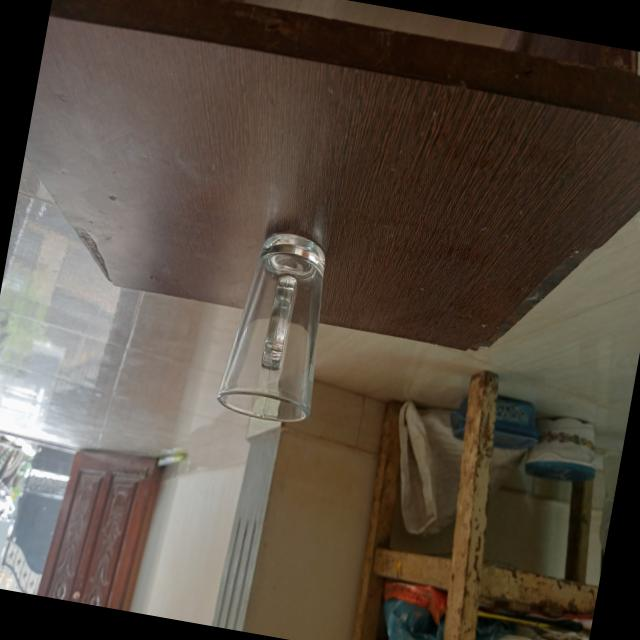glass-VX4N: (207, 220, 341, 440)
